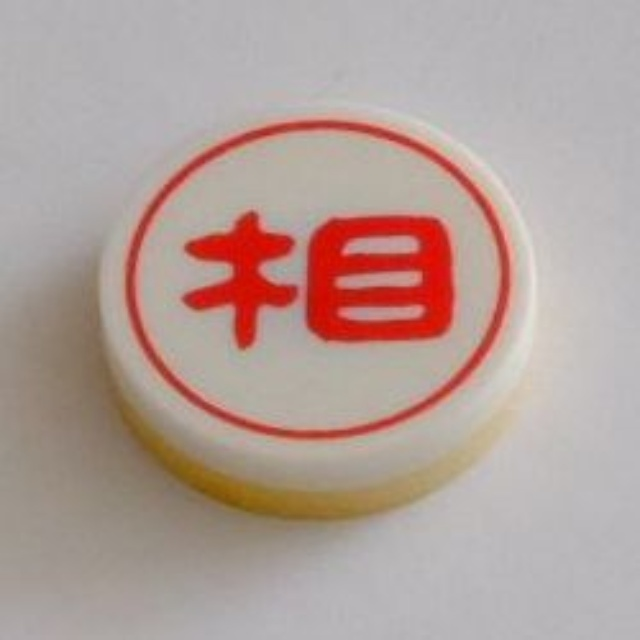red_bo: (91, 96, 550, 510)
